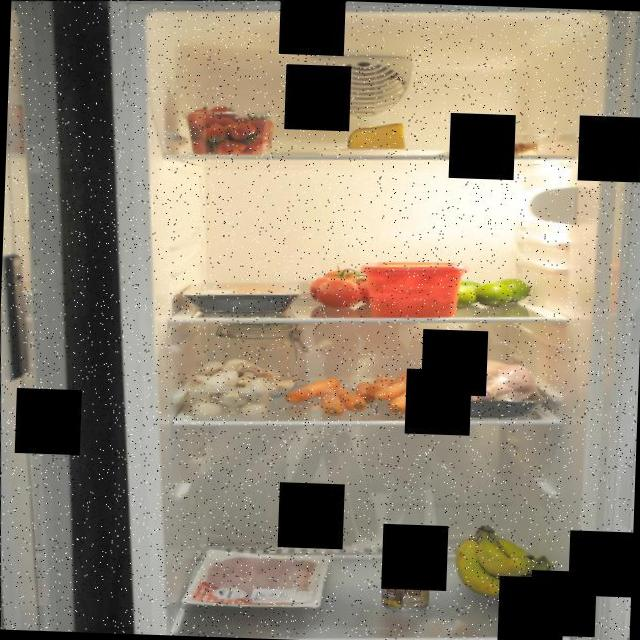Carne cerdo: (204, 547, 326, 613)
Carne pollo: (416, 354, 546, 420)
Carne vacuno: (180, 276, 303, 321)
Champiñones: (174, 354, 296, 424)
Gambas/Langostinos: (452, 138, 540, 160)
Mantequilla: (359, 259, 468, 320)
Plátano: (442, 518, 562, 604)
Queso: (342, 116, 412, 154)
Tomate: (302, 257, 390, 312)
Zanahoria: (280, 363, 424, 423)
corn: (377, 560, 434, 610)
flour: (210, 315, 314, 397)
strawberries: (177, 99, 284, 160)
